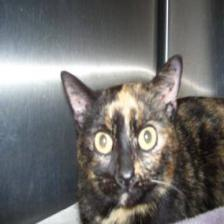cat: (59, 54, 187, 213)
